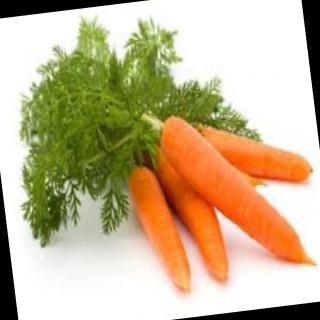Wortel: (158, 103, 308, 279), (190, 107, 319, 197), (125, 159, 197, 302)
